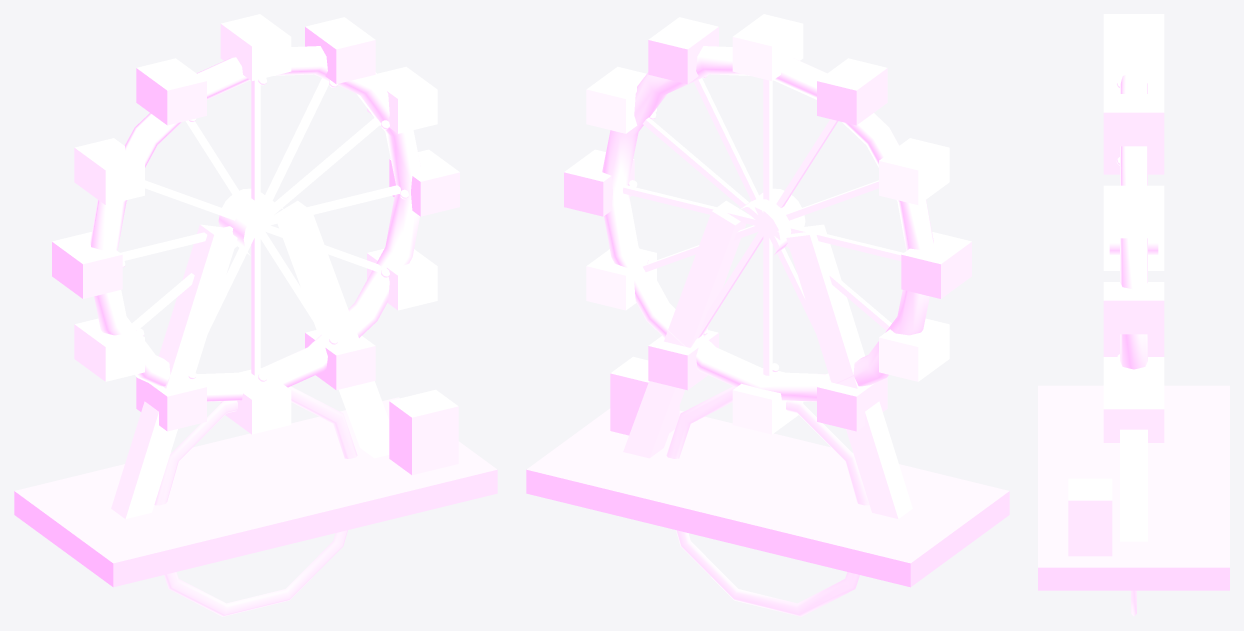
The model's file is ferris-aetherglass-neon.glb.
3 views of the same model, side by side, from view 1: azimuth 30°, elevation 25°; view 2: azimuth 150°, elevation 25°; view 3: azimuth 270°, elevation 25° (orthographic). The views are drawn at different scales.
Visible parts, largest first — view 1: base-platform, wheel-ring, support-a, support-b, visual-fx-halo, control-box, gondola-4, gondola-5, gondola-3, gondola-6, gondola-2, gondola-7 (+19 smaller); view 2: base-platform, wheel-ring, support-a, support-b, visual-fx-halo, gondola-4, gondola-5, gondola-3, gondola-6, gondola-2, gondola-7, gondola-1 (+19 smaller); view 3: base-platform, wheel-ring, control-box, gondola-1, gondola-2, support-b, gondola-0, gondola-3, gondola-11, gondola-10, gondola-4, gondola-6 (+4 smaller).
Part boxes in pixels (x1,y1,x2,y2): base-platform: [14, 397, 497, 587]; wheel-ring: [90, 46, 421, 401]; support-a: [111, 224, 237, 518]; support-b: [275, 200, 389, 458]; visual-fx-halo: [154, 386, 357, 616]; control-box: [389, 389, 458, 475]; gondola-4: [136, 58, 206, 125]; gondola-5: [74, 138, 144, 204]; gondola-3: [220, 14, 291, 80]; gondola-6: [52, 232, 122, 298]; gondola-2: [305, 17, 375, 84]; gondola-7: [74, 318, 144, 381]; base-platform: [526, 408, 1009, 587]; wheel-ring: [602, 46, 933, 401]; support-a: [786, 224, 912, 518]; support-b: [623, 200, 748, 458]; visual-fx-halo: [666, 386, 869, 616]; gondola-4: [817, 58, 887, 125]; gondola-5: [879, 138, 949, 204]; gondola-3: [732, 14, 803, 80]; gondola-6: [901, 232, 971, 298]; gondola-2: [648, 17, 718, 84]; gondola-7: [879, 318, 949, 381]; gondola-1: [586, 66, 656, 133]; base-platform: [1038, 385, 1229, 590]; wheel-ring: [1120, 71, 1147, 369]; control-box: [1068, 478, 1112, 556]; gondola-1: [1103, 185, 1164, 238]; gondola-2: [1103, 94, 1164, 146]; support-b: [1120, 429, 1147, 541]; gondola-0: [1103, 282, 1164, 334]; gondola-3: [1103, 31, 1164, 83]; gondola-11: [1103, 357, 1164, 409]; gondola-10: [1103, 409, 1164, 442]; gondola-4: [1103, 14, 1164, 30]; gondola-6: [1103, 146, 1164, 174].
Bounding box in the file's own units: 7.4 × 10.64 × 3.3.
